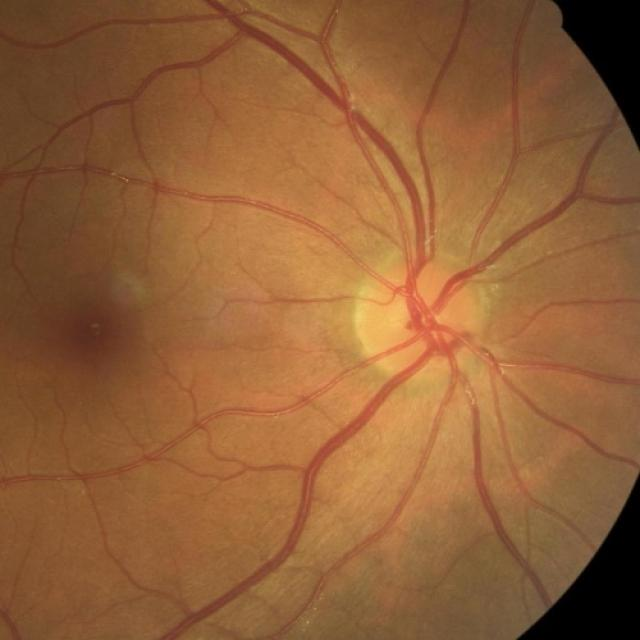OD: (359, 259, 487, 378)
